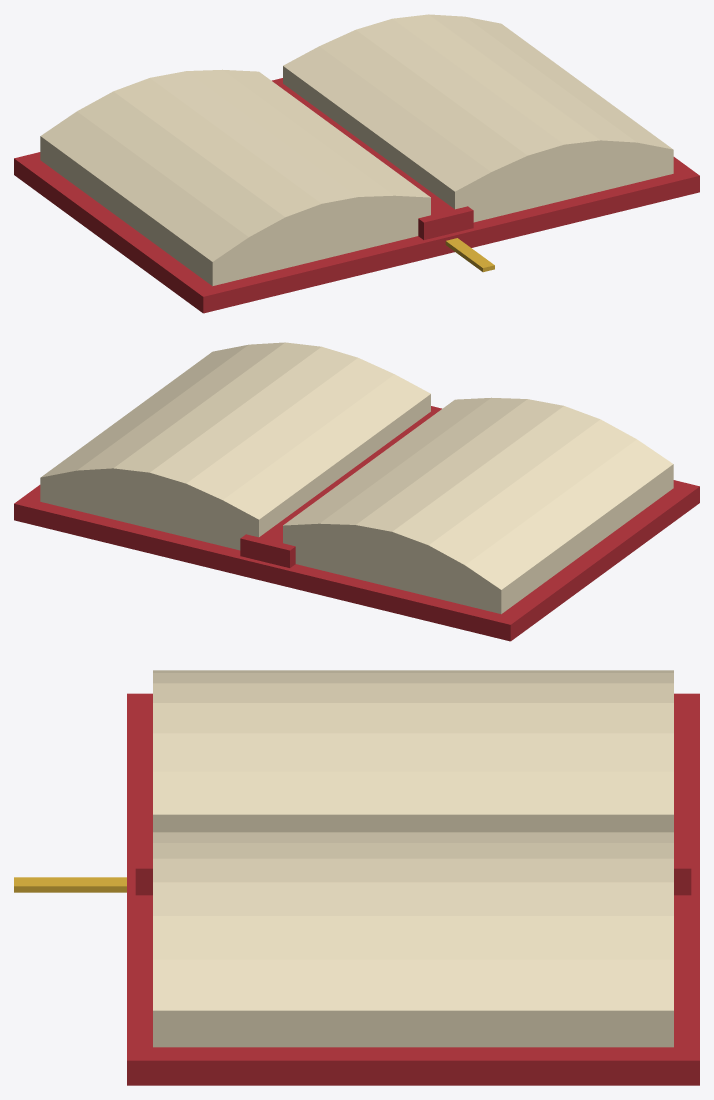
Rendered from open-book.glb.
3 renders of one model, top to bottom at view 1: azimuth 30°, elevation 25°; view 2: azimuth 150°, elevation 25°; view 3: azimuth 270°, elevation 25°, orthographic. The views are drawn at different scales.
Parts seen in each view (by area): view 1: Book pages, Book cover, Book ribbon; view 2: Book pages, Book cover; view 3: Book pages, Book cover, Book ribbon.
Boxes of the visible parts, bbox=[...] form: Book pages: bbox=[40, 14, 673, 286]; Book cover: bbox=[14, 78, 699, 313]; Book ribbon: bbox=[445, 238, 494, 272]; Book pages: bbox=[40, 342, 673, 614]; Book cover: bbox=[14, 406, 699, 641]; Book pages: bbox=[153, 670, 673, 1047]; Book cover: bbox=[127, 693, 699, 1085]; Book ribbon: bbox=[14, 877, 126, 892].
Size of the model in its own units: 0.5 by 0.0696 by 0.395.
